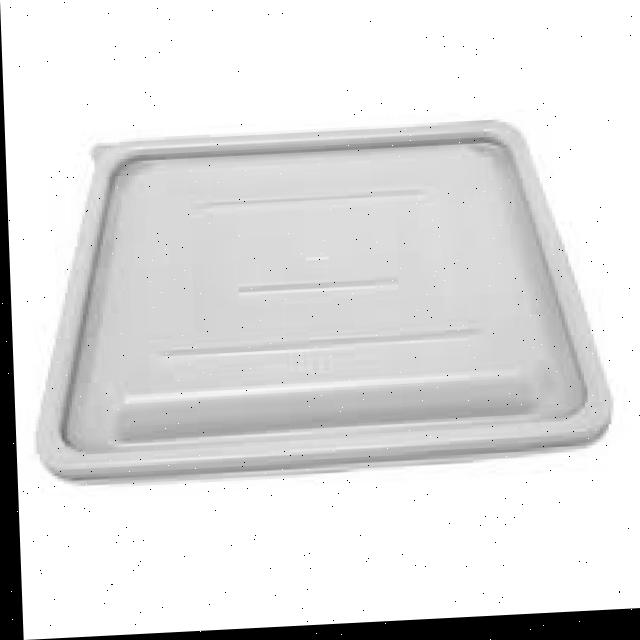disposable: (24, 103, 629, 504)
